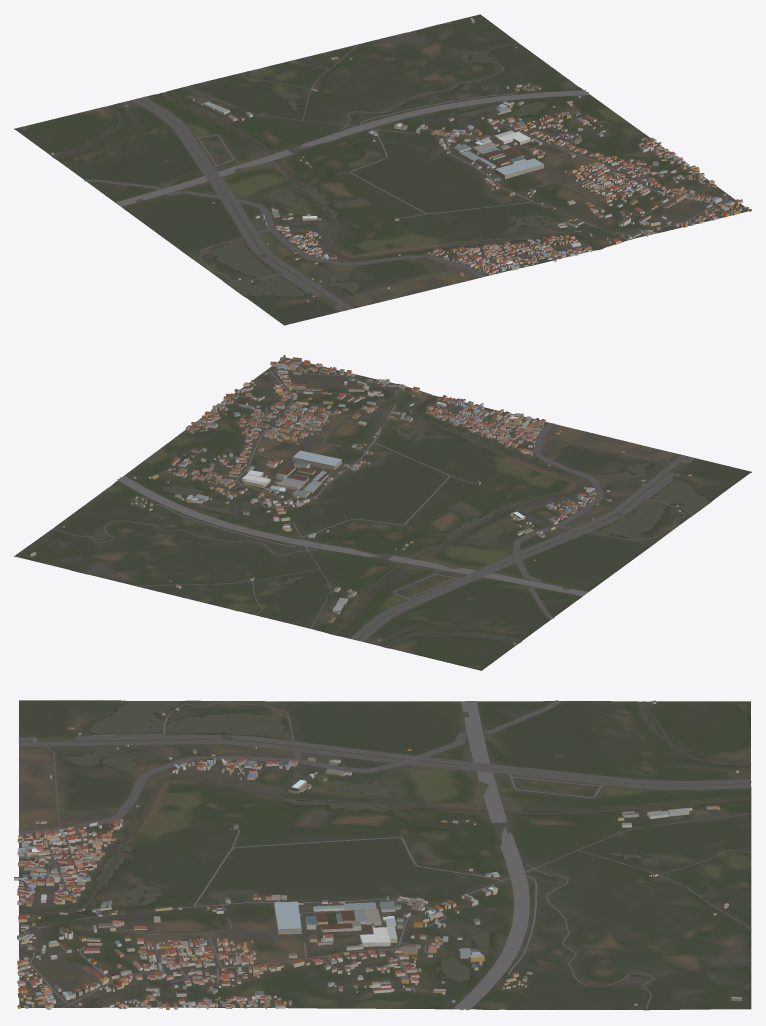
3 views of the same model, one above another, from view 1: azimuth 30°, elevation 25°; view 2: azimuth 150°, elevation 25°; view 3: azimuth 270°, elevation 25° (orthographic). The views are drawn at different scales.
Parts seen in each view (by area): view 1: ground, buildings, roads, water; view 2: ground, buildings, roads, water; view 3: ground, buildings, roads, water.
Boxes of the visible parts, box(x1,y1,x2,y2) form: ground: box(14, 14, 749, 325); buildings: box(50, 18, 751, 301); roads: box(84, 44, 748, 311); water: box(53, 29, 600, 296); ground: box(14, 357, 751, 670); buildings: box(29, 355, 691, 644); roads: box(117, 357, 695, 641); water: box(52, 395, 710, 647); ground: box(19, 700, 751, 1010); buildings: box(14, 700, 741, 1009); roads: box(18, 700, 751, 1010); water: box(19, 701, 751, 1009).
Bounding box in the file's own units: 1411 × 23.07 × 1413.
